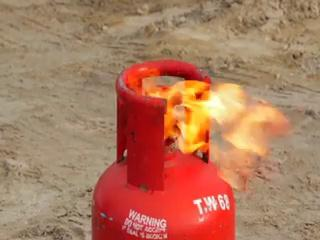Fire: (121, 54, 309, 186)
